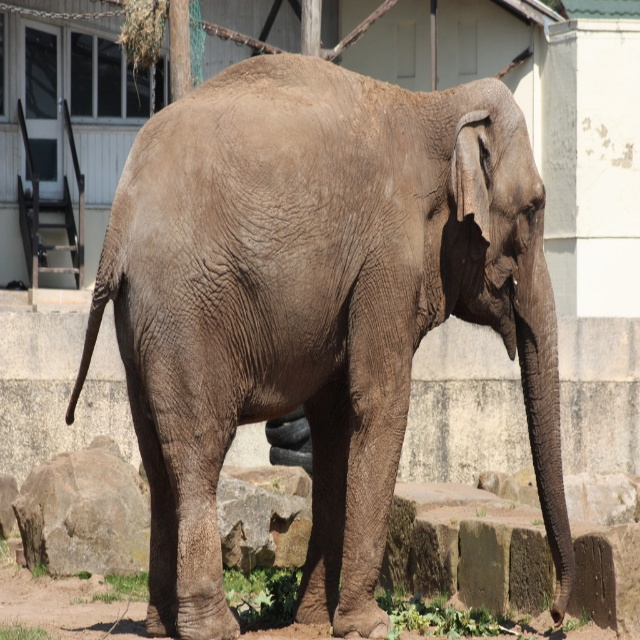Elephant: (66, 52, 579, 639)
